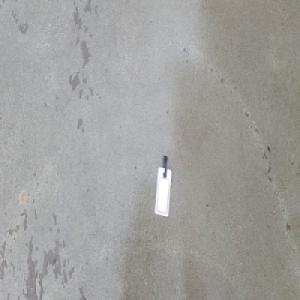LuggageTag: (154, 154, 172, 218)
